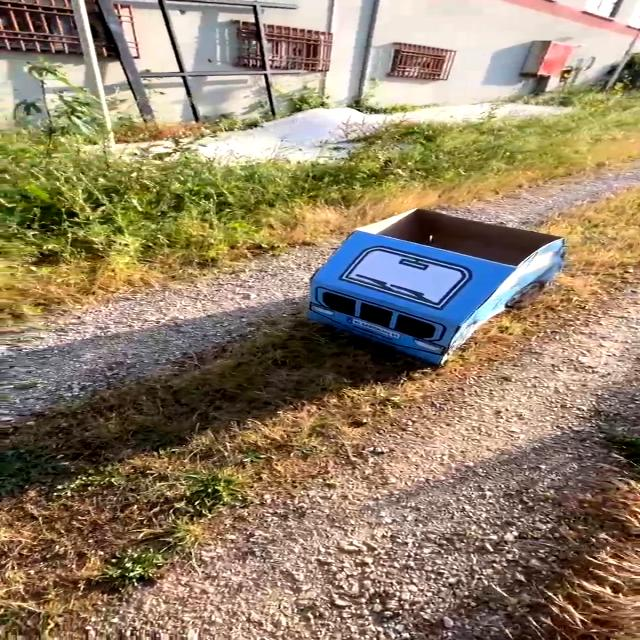blue_car: (247, 193, 620, 392)
